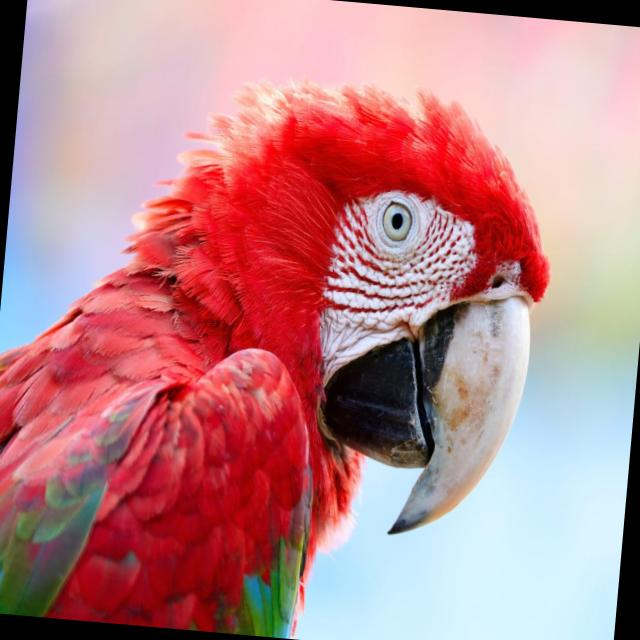Birds: (62, 0, 593, 640)
